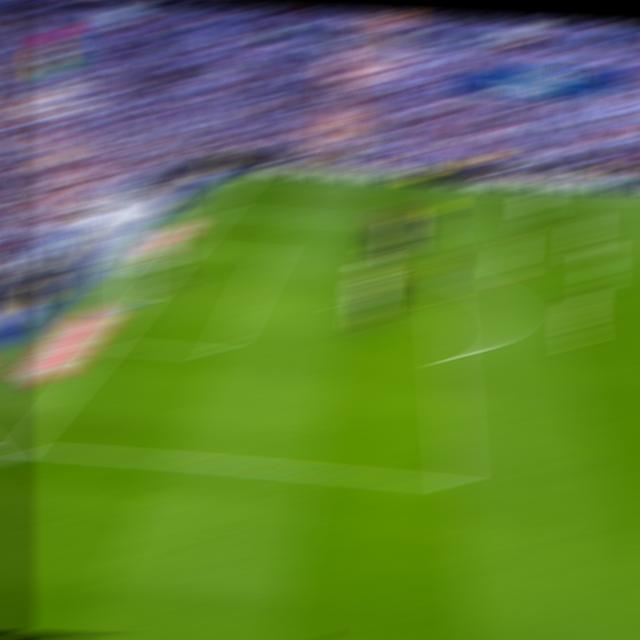bigarea_bottom_inner: (206, 342, 233, 362)
bigarea_top_outter: (209, 204, 231, 214)
bottom_arc_area_intersection: (7, 437, 35, 458)
corner: (236, 173, 261, 179)
smallarea_bottom_outter: (95, 335, 121, 350)
smallarea_top_outter: (178, 240, 201, 250)
